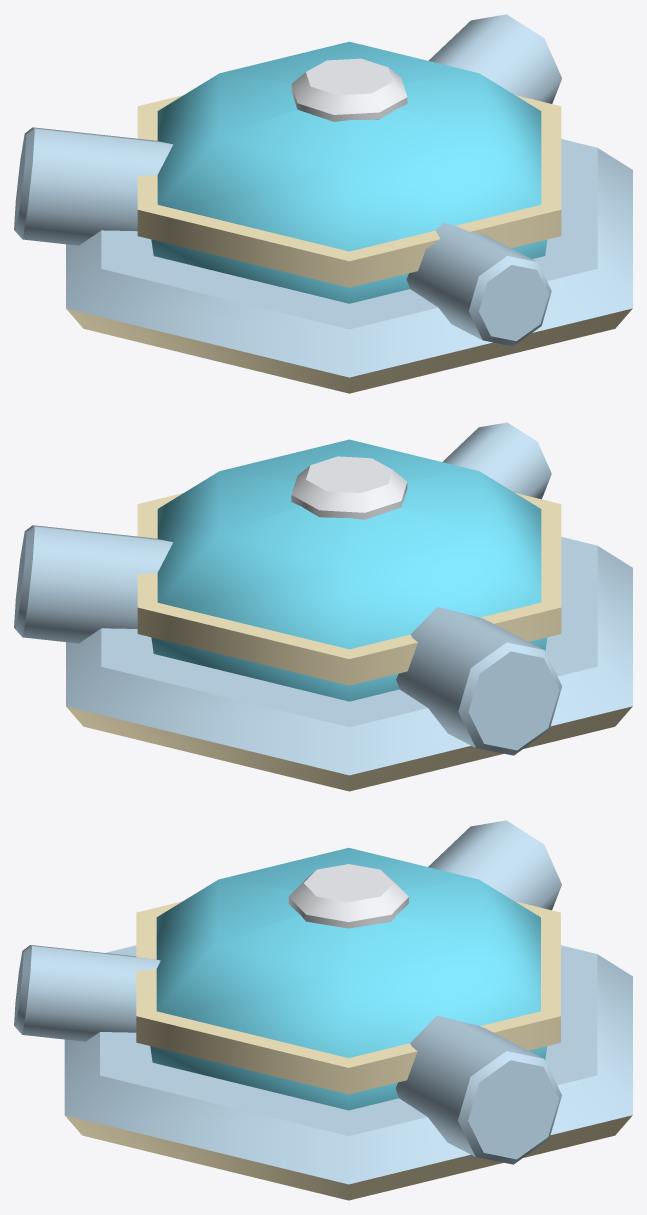
The model's file is R4D_SlowTrap_LOD1.glb.
3 renders of one model, top to bottom at view 1: azimuth 30°, elevation 25°; view 2: azimuth 150°, elevation 25°; view 3: azimuth 270°, elevation 25°, orthographic.
Visible parts, largest first — view 1: R4D_SlowTrap_LOD1; view 2: R4D_SlowTrap_LOD1; view 3: R4D_SlowTrap_LOD1.
Boxes of the visible parts, bbox=[...] form: R4D_SlowTrap_LOD1: bbox=[14, 14, 632, 393]; R4D_SlowTrap_LOD1: bbox=[14, 422, 632, 791]; R4D_SlowTrap_LOD1: bbox=[14, 820, 632, 1200].
Bounding box in the file's own units: 0.48 × 0.1513 × 0.4526.
